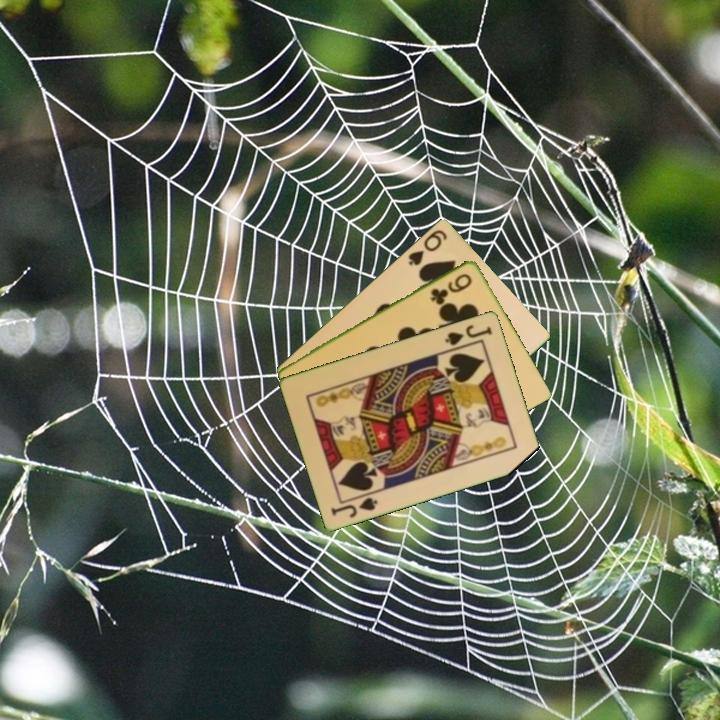6s: (404, 226, 450, 268)
9c: (427, 269, 475, 306)
Js: (441, 321, 495, 348), (328, 493, 381, 520)
